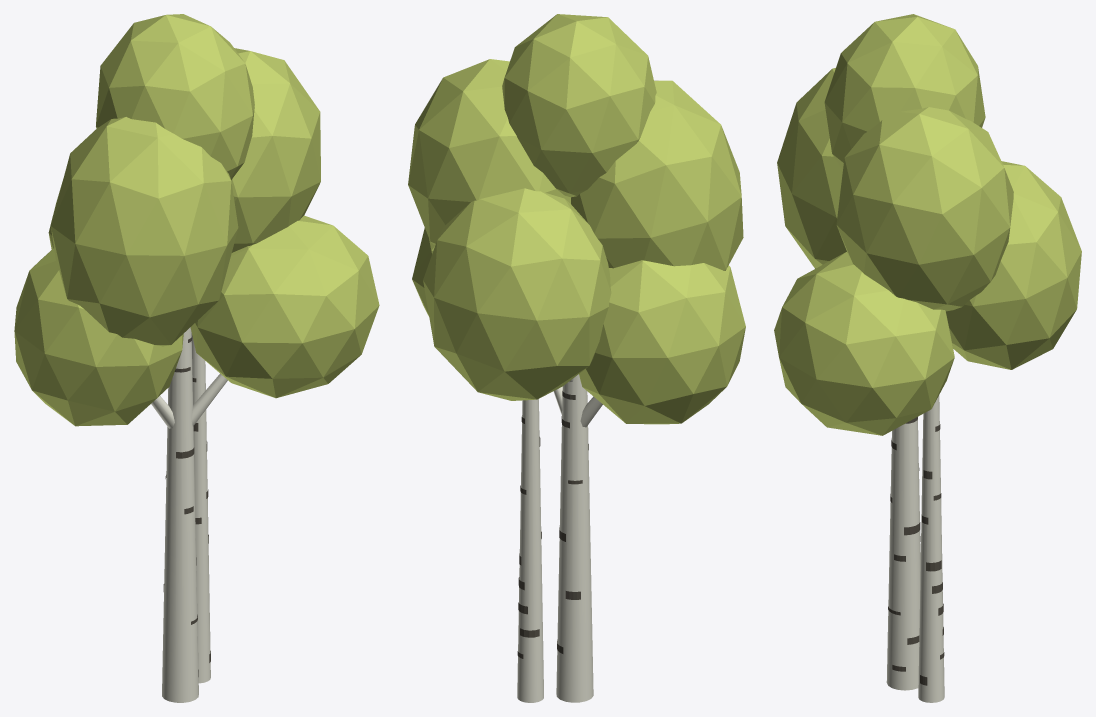
File: tree_birch.glb
The picture shows the model from 3 angles, left to right: view 1: azimuth 30°, elevation 25°; view 2: azimuth 150°, elevation 25°; view 3: azimuth 270°, elevation 25°; orthographic projection. The views are drawn at different scales.
Visible parts, largest first — view 1: Birch_Airy_Crown_03, Birch_Airy_Crown_01, Birch_Airy_Crown_05, Birch_Airy_Crown_00, Birch_Airy_Crown_04, Birch_White_Trunk_0, Birch_White_Trunk_1, Birch_Branch_01; view 2: Birch_Airy_Crown_02, Birch_Airy_Crown_00, Birch_Airy_Crown_03, Birch_Airy_Crown_05, Birch_Airy_Crown_04, Birch_White_Trunk_0, Birch_White_Trunk_1, Birch_Airy_Crown_01; view 3: Birch_Airy_Crown_04, Birch_Airy_Crown_01, Birch_Airy_Crown_02, Birch_Airy_Crown_05, Birch_Airy_Crown_03, Birch_White_Trunk_0, Birch_White_Trunk_1.
Part boxes in pixels (left/top/right/bottom): Birch_Airy_Crown_03: left=51, top=117, right=238, bottom=346; Birch_Airy_Crown_01: left=190, top=215, right=379, bottom=398; Birch_Airy_Crown_05: left=96, top=14, right=254, bottom=180; Birch_Airy_Crown_00: left=14, top=248, right=183, bottom=426; Birch_Airy_Crown_04: left=231, top=48, right=320, bottom=252; Birch_White_Trunk_0: left=162, top=327, right=198, bottom=702; Birch_White_Trunk_1: left=191, top=333, right=210, bottom=683; Birch_Branch_01: left=191, top=373, right=227, bottom=426; Birch_Airy_Crown_02: left=423, top=188, right=611, bottom=400; Birch_Airy_Crown_00: left=579, top=260, right=745, bottom=424; Birch_Airy_Crown_03: left=571, top=80, right=743, bottom=270; Birch_Airy_Crown_05: left=502, top=14, right=656, bottom=197; Birch_Airy_Crown_04: left=408, top=59, right=570, bottom=245; Birch_White_Trunk_0: left=556, top=374, right=593, bottom=702; Birch_White_Trunk_1: left=517, top=399, right=543, bottom=702; Birch_Airy_Crown_01: left=412, top=228, right=434, bottom=316; Birch_Airy_Crown_04: left=836, top=107, right=1013, bottom=311; Birch_Airy_Crown_01: left=774, top=252, right=954, bottom=435; Birch_Airy_Crown_02: left=946, top=161, right=1081, bottom=369; Birch_Airy_Crown_05: left=824, top=14, right=985, bottom=169; Birch_Airy_Crown_03: left=777, top=68, right=846, bottom=268; Birch_White_Trunk_0: left=886, top=419, right=920, bottom=690; Birch_White_Trunk_1: left=918, top=395, right=944, bottom=702.
Size of the model in its own units: 3.61 by 7.19 by 3.03.
